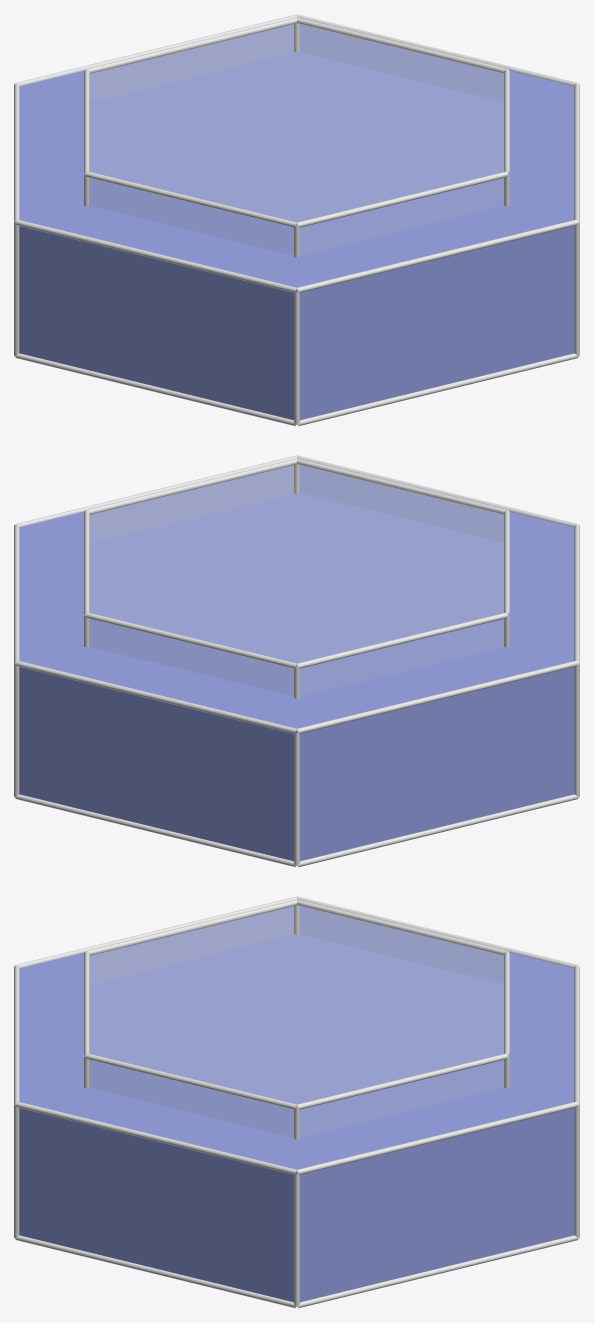
The model's file is basiccellblueprint.glb.
3 views of the same model, one above another, from view 1: azimuth 30°, elevation 25°; view 2: azimuth 150°, elevation 25°; view 3: azimuth 270°, elevation 25° (orthographic).
Parts seen in each view (by area): view 1: Cylinder.001, Cylinder; view 2: Cylinder.001, Cylinder; view 3: Cylinder.001, Cylinder.
Part boxes in pixels (left/top/right/bottom): Cylinder.001: left=14, top=14, right=579, bottom=426; Cylinder: left=84, top=17, right=509, bottom=257; Cylinder.001: left=14, top=455, right=579, bottom=867; Cylinder: left=84, top=458, right=509, bottom=698; Cylinder.001: left=14, top=896, right=579, bottom=1308; Cylinder: left=84, top=899, right=509, bottom=1139.
Bounding box in the file's own units: 2.02 × 0.5778 × 1.75.
